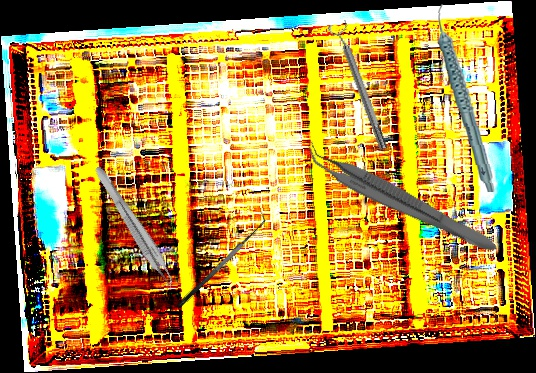Fixation Ring: (326, 19, 394, 153)
Handpiece: (435, 1, 497, 195)
Spatula Surgical: (168, 210, 273, 311)
Tissue Forceps: (297, 139, 505, 257), (86, 164, 182, 293)
